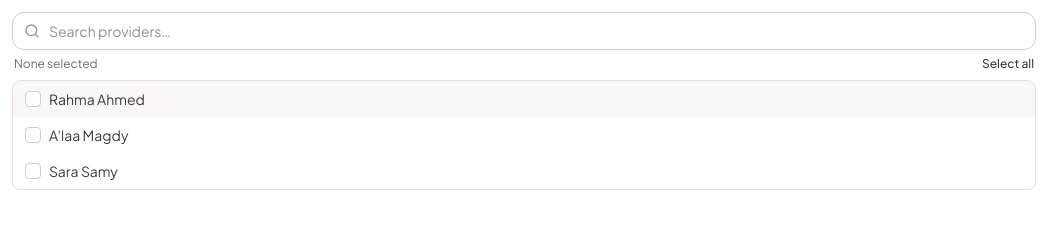
Test: EntityPicker — multiple mode › "Clear" empties the entire selection in one click
Click the option "Rahma Ahmed". click: (97, 99)
box: [13,81,1035,117]
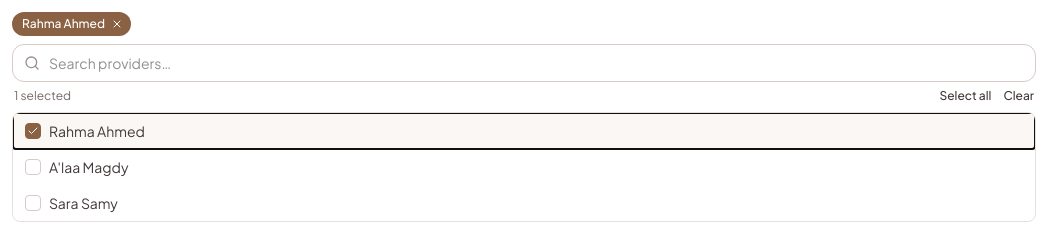
Click the option "A'laa Magdy". click: (89, 167)
box: [13,149,1035,185]
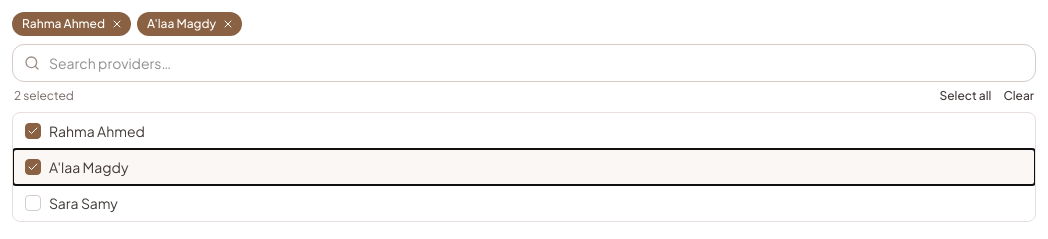
Result: the text "2 selected" is shown at [14,88,74,104]
Click the button "Clear". click: (1019, 96)
box: [1003,88,1034,104]
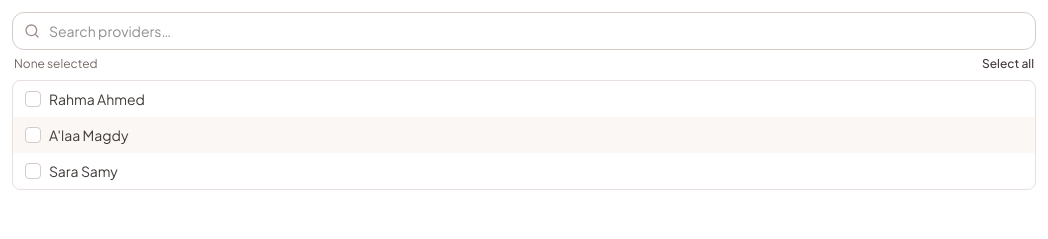
Result: the text "None selected" is shown at [14,56,98,72]
